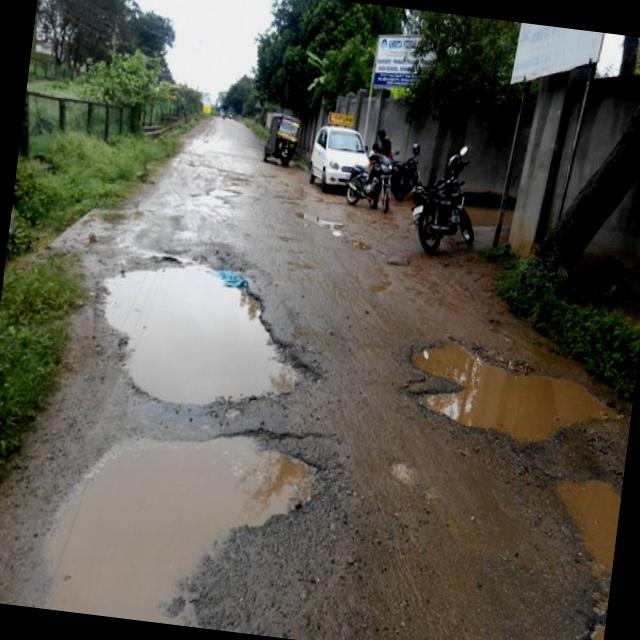bad-road: (38, 402, 324, 640), (94, 244, 333, 417), (399, 329, 627, 458), (538, 465, 624, 579), (577, 611, 606, 640)
